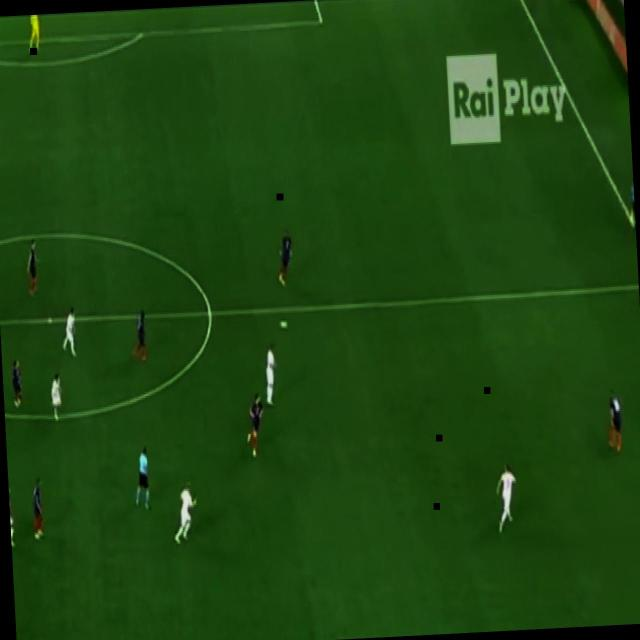ball: (278, 317, 288, 331)
player-white: (170, 482, 200, 548), (494, 461, 519, 535), (244, 392, 267, 458), (604, 387, 624, 455), (132, 447, 152, 513), (274, 229, 295, 289), (261, 342, 279, 408), (128, 308, 148, 364), (30, 476, 46, 540), (60, 305, 78, 360), (24, 237, 41, 295), (49, 371, 65, 421), (10, 356, 24, 408), (25, 14, 41, 53), (8, 486, 16, 548)
